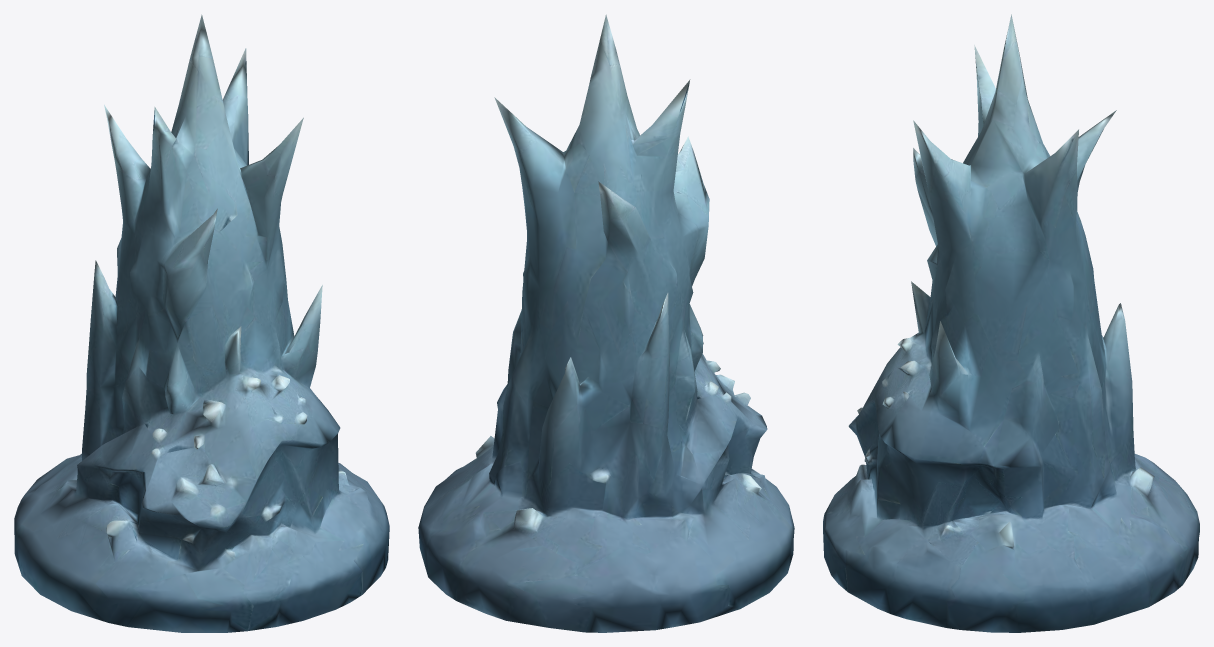
The model's file is rock_b.glb.
3 renders of one model, left to right at view 1: azimuth 30°, elevation 25°; view 2: azimuth 150°, elevation 25°; view 3: azimuth 270°, elevation 25°, orthographic.
Size of the model in its own units: 1.2 by 1.9 by 1.2.
Materials: 1 (1 with a texture image).
